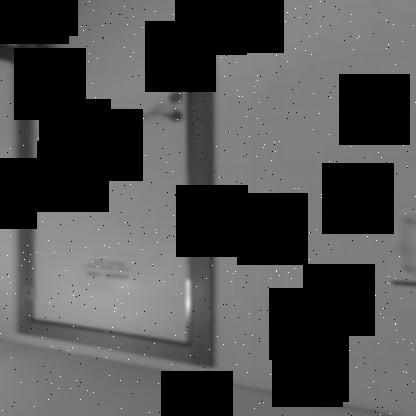Porte: (14, 0, 215, 369)
